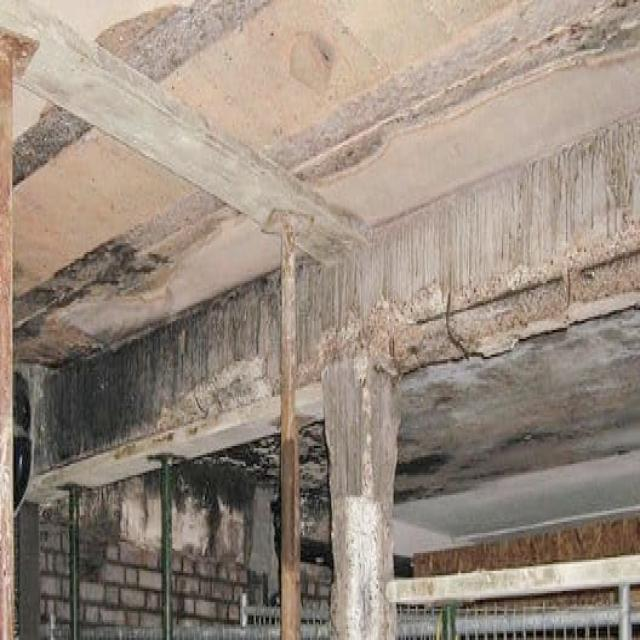Spalling: (374, 227, 638, 396)
